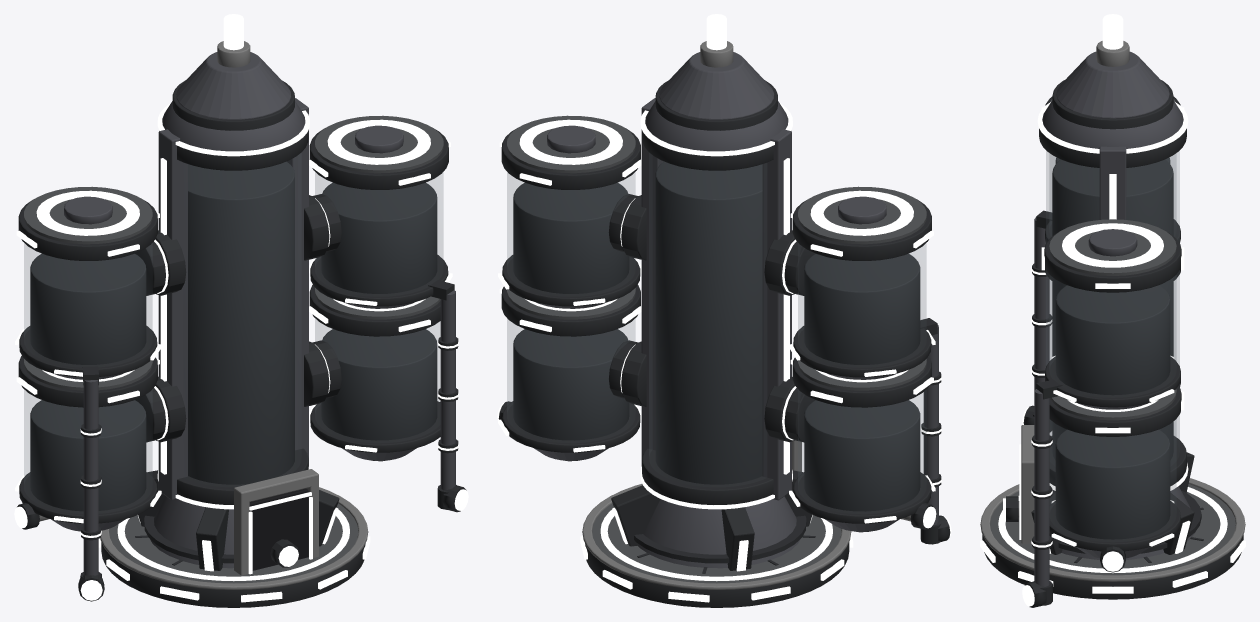
The model's file is Vat_T4.glb.
The picture shows the model from 3 angles, left to right: view 1: azimuth 30°, elevation 25°; view 2: azimuth 150°, elevation 25°; view 3: azimuth 270°, elevation 25°; orthographic projection.
Parts seen in each view (by area): view 1: Vat_T4; view 2: Vat_T4; view 3: Vat_T4.
Boxes of the visible parts, x1=… form: Vat_T4: x1=14, y1=14, x2=468, y2=607; Vat_T4: x1=497, y1=14, x2=951, y2=607; Vat_T4: x1=980, y1=14, x2=1245, y2=607.
Bounding box in the file's own units: 7.65 × 9.21 × 4.17.
